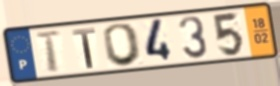3: (178, 15, 210, 61)
4: (143, 17, 177, 65)
5: (211, 10, 246, 58)
O: (101, 22, 144, 68)
T: (33, 29, 64, 74), (71, 27, 97, 71)
